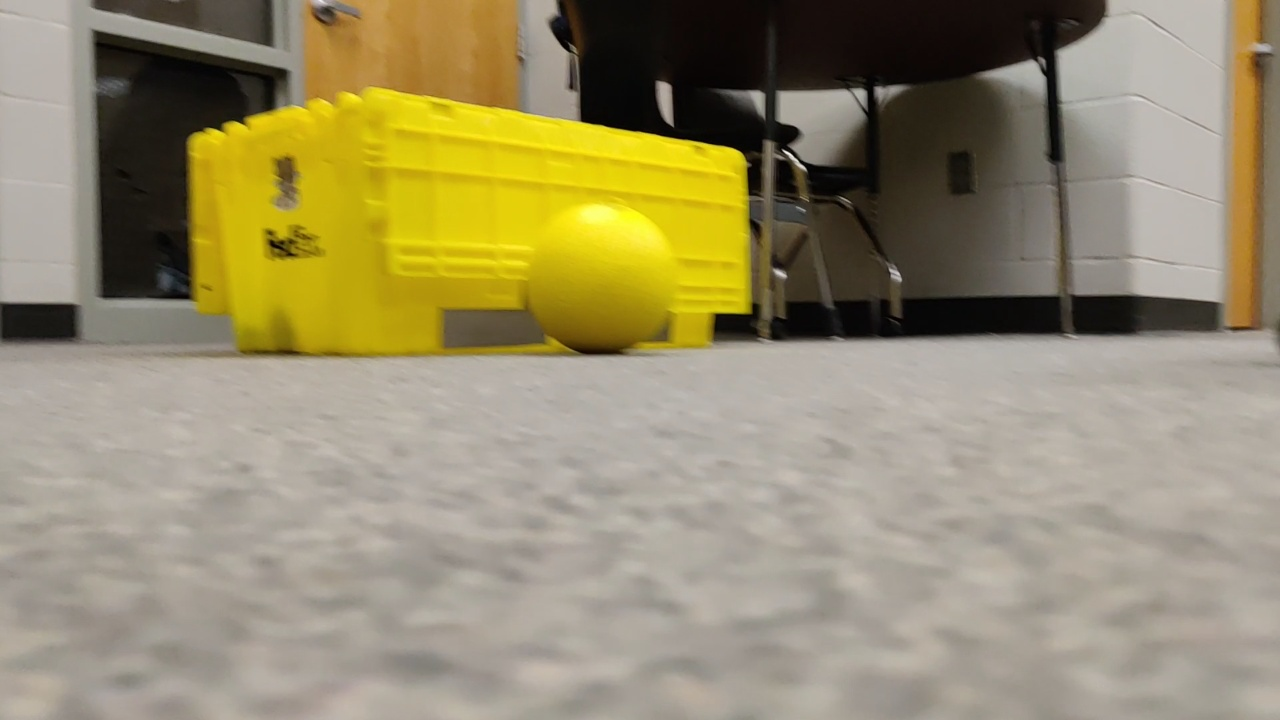Ball: (529, 202, 677, 355)
